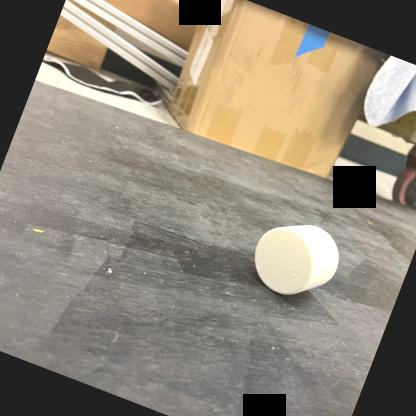white cylinder: (241, 206, 350, 312)
